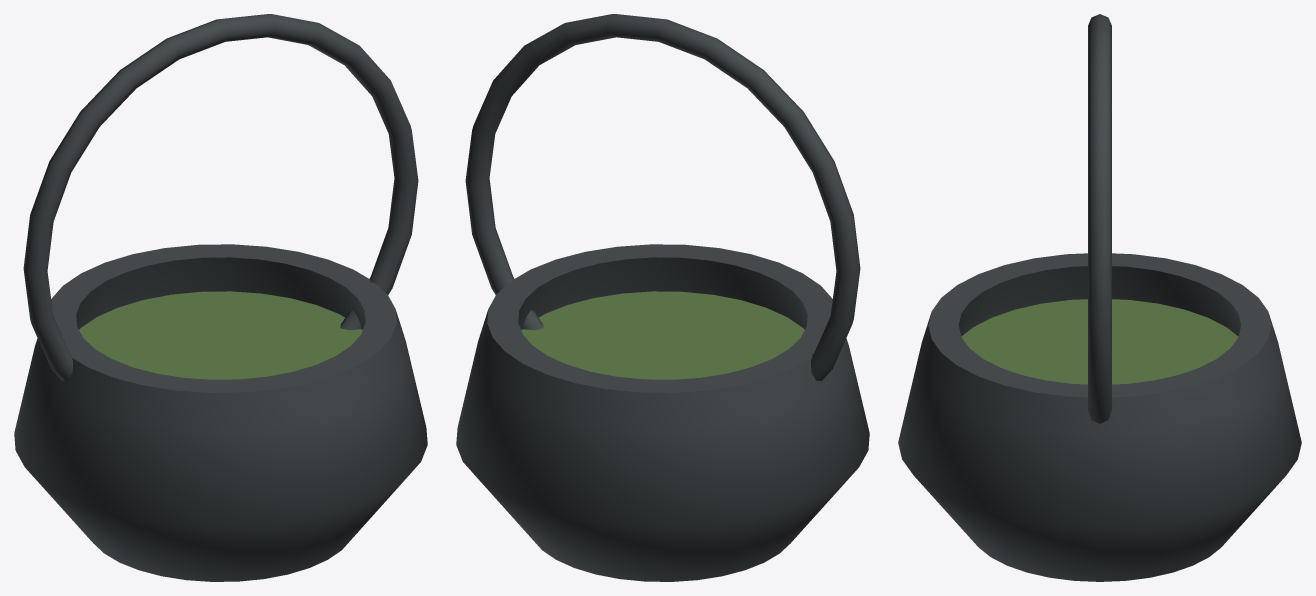
The model's file is undercity-sewers-and-thieves-den-stew-pot-e41f7897__27247.glb.
3 renders of one model, left to right at view 1: azimuth 30°, elevation 25°; view 2: azimuth 150°, elevation 25°; view 3: azimuth 270°, elevation 25°, orthographic. The views are drawn at different scales.
Parts seen in each view (by area): view 1: stew-pot; view 2: stew-pot; view 3: stew-pot.
Part boxes in pixels (x1=…): stew-pot: x1=14, y1=14, x2=427, y2=581; stew-pot: x1=456, y1=14, x2=869, y2=581; stew-pot: x1=898, y1=14, x2=1301, y2=581.
Size of the model in its own units: 0.656 by 0.828 by 0.6.
